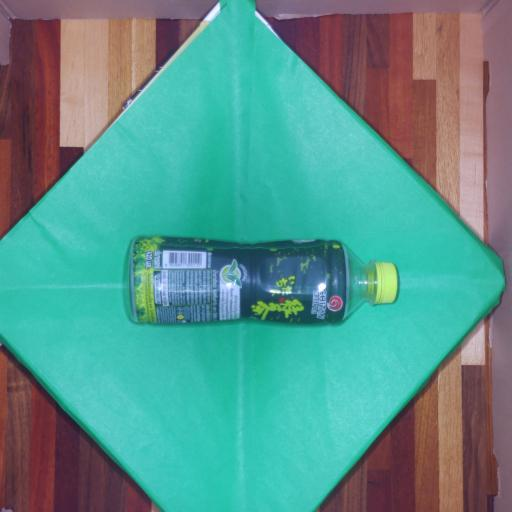bottle: (127, 234, 399, 328)
